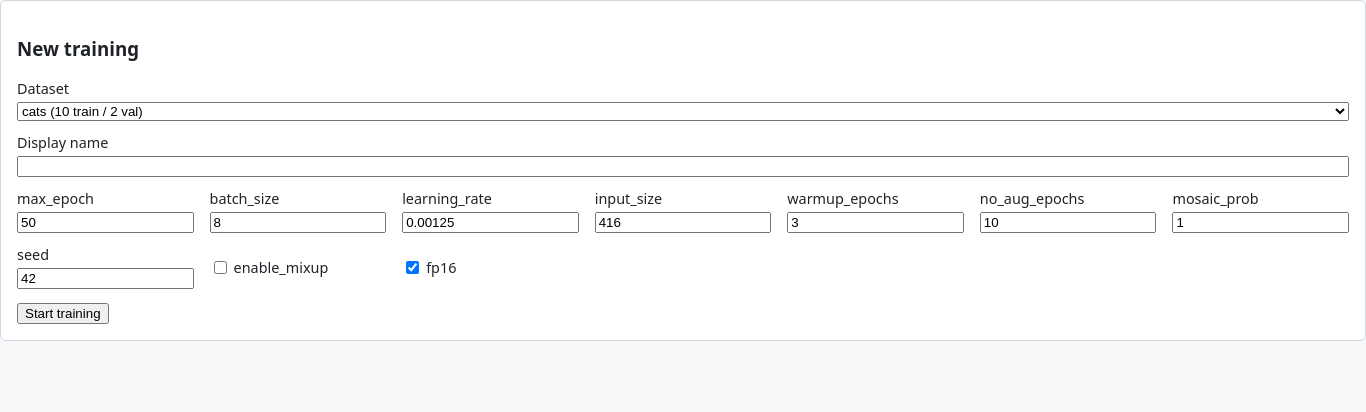
it: TrainingForm › shows the server's reason for a 409 conflict
The width and height of the screenshot is (1366, 412).
Click the button "Start training" at (63, 314), box [17, 303, 109, 324]
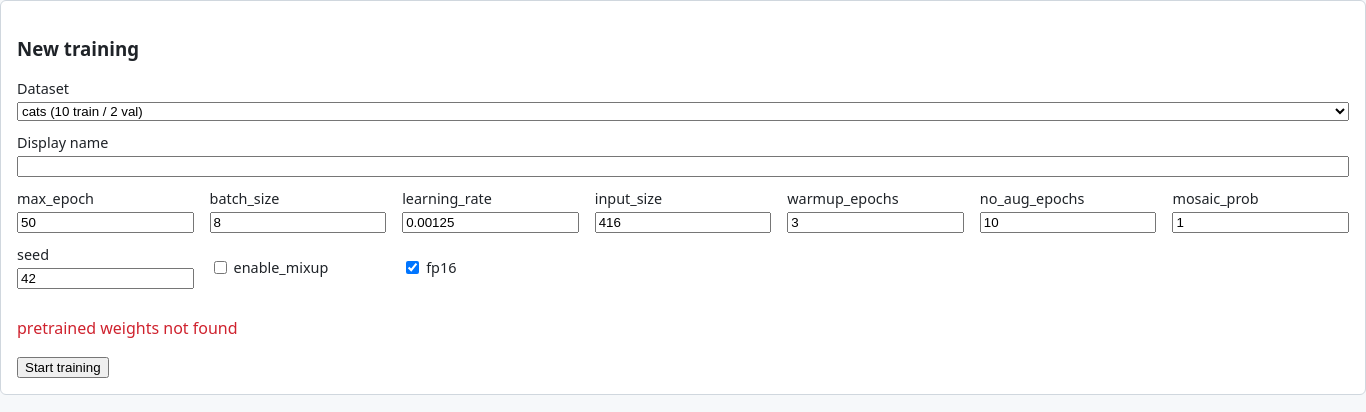
Now the text "pretrained weights not found" is shown, box [17, 317, 238, 339]
